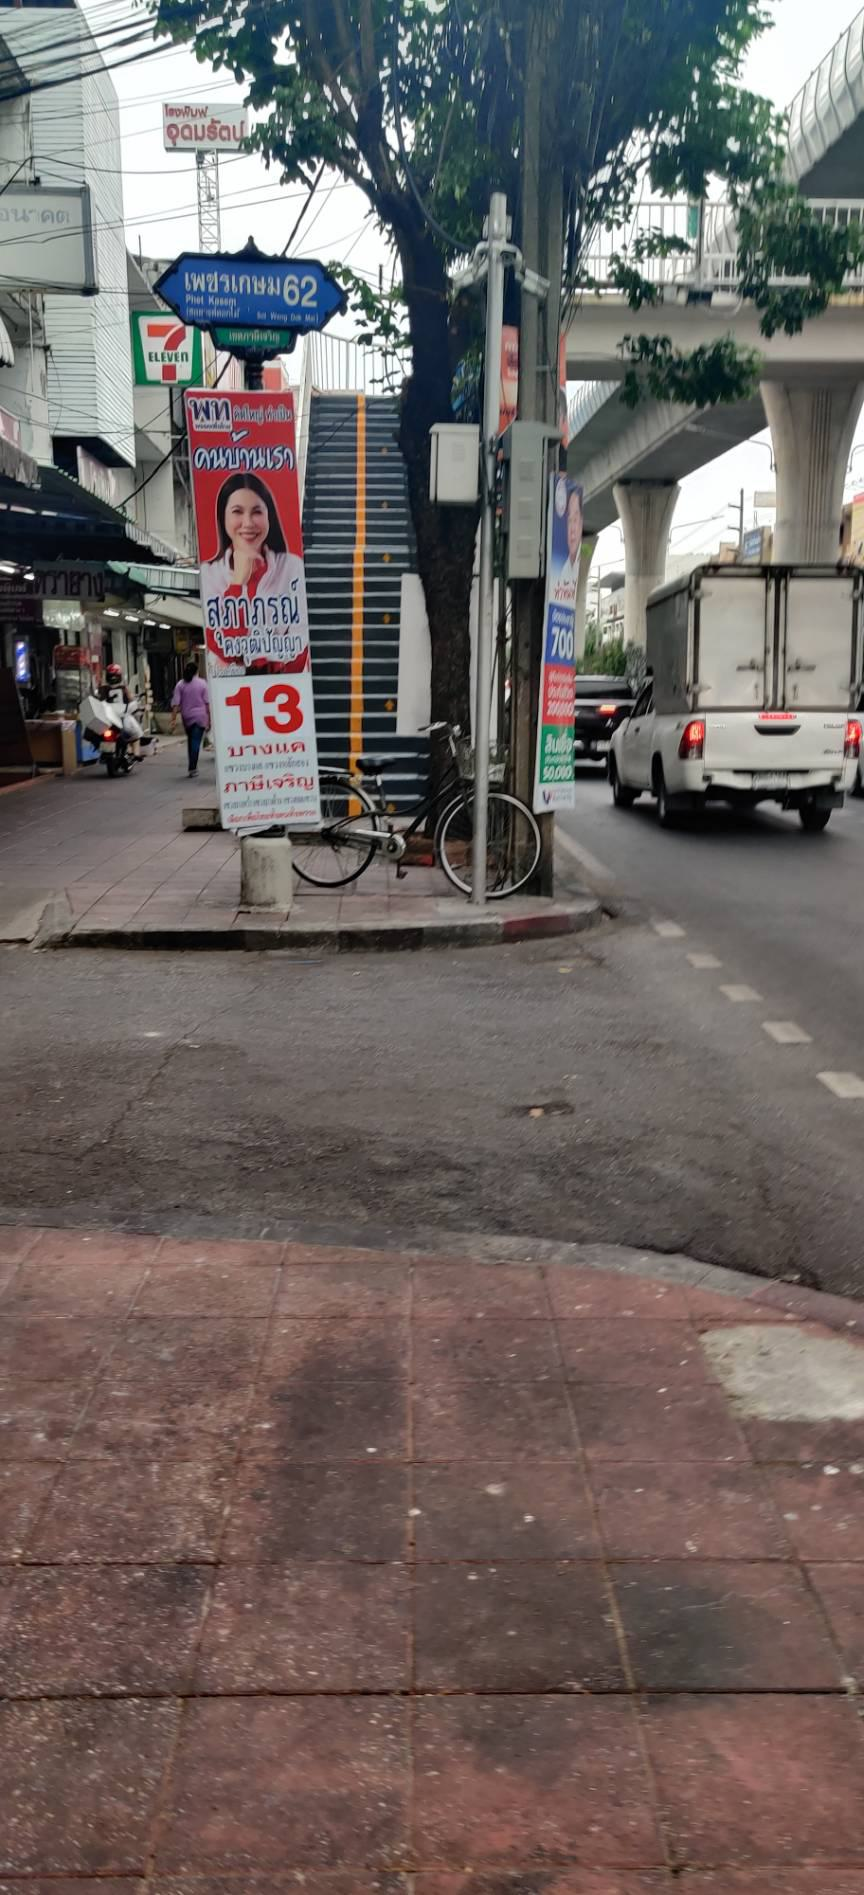Banner: (190, 387, 329, 838)
